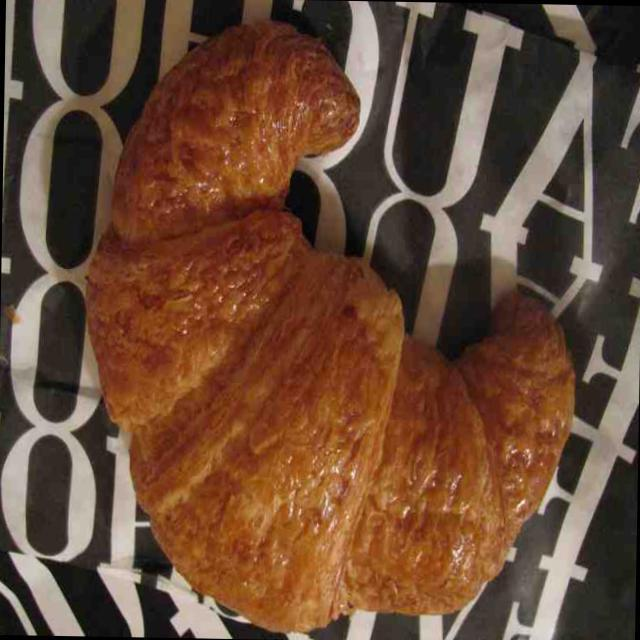Croissant: (72, 9, 588, 640)
